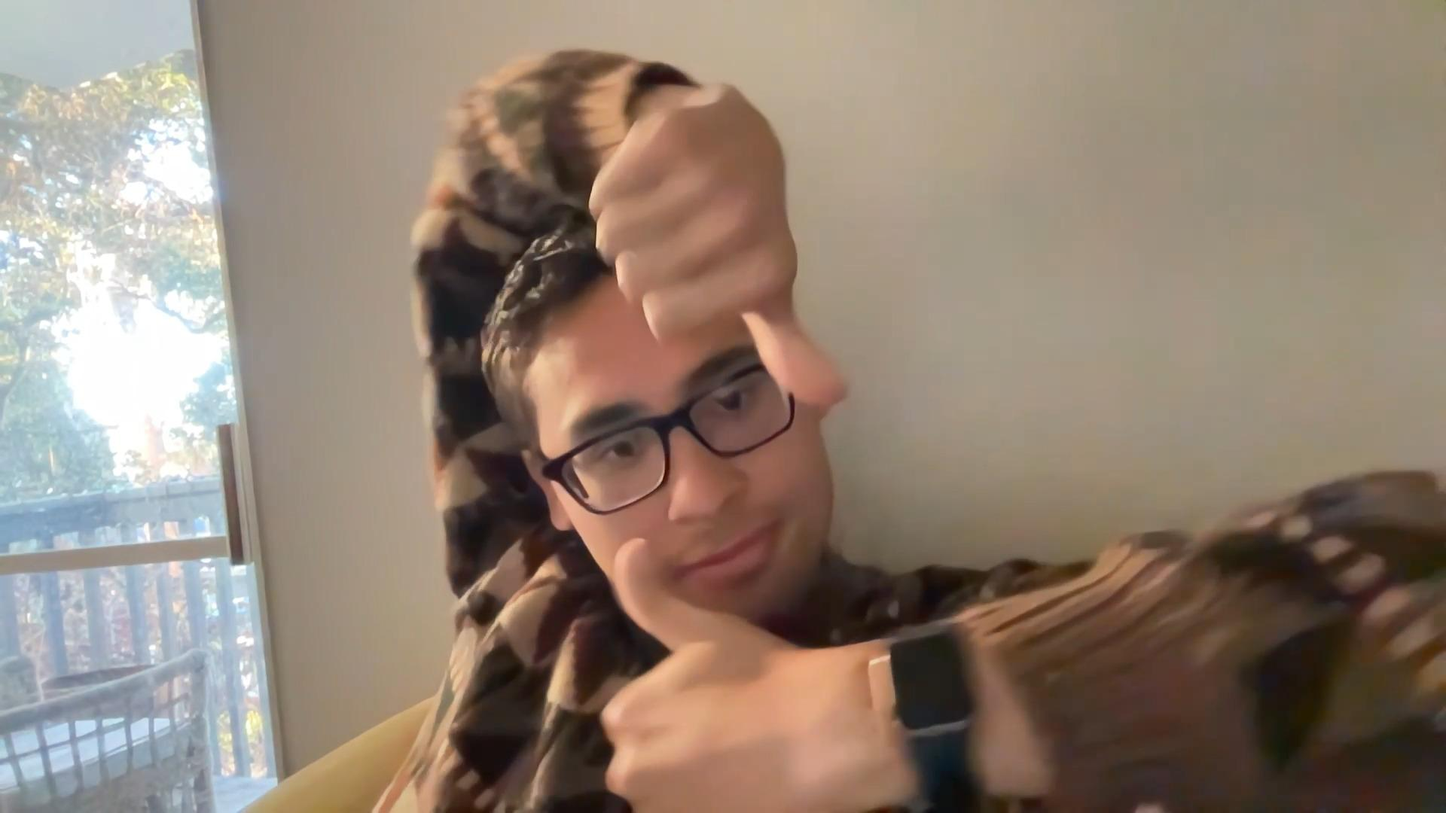face: (534, 299, 827, 635)
